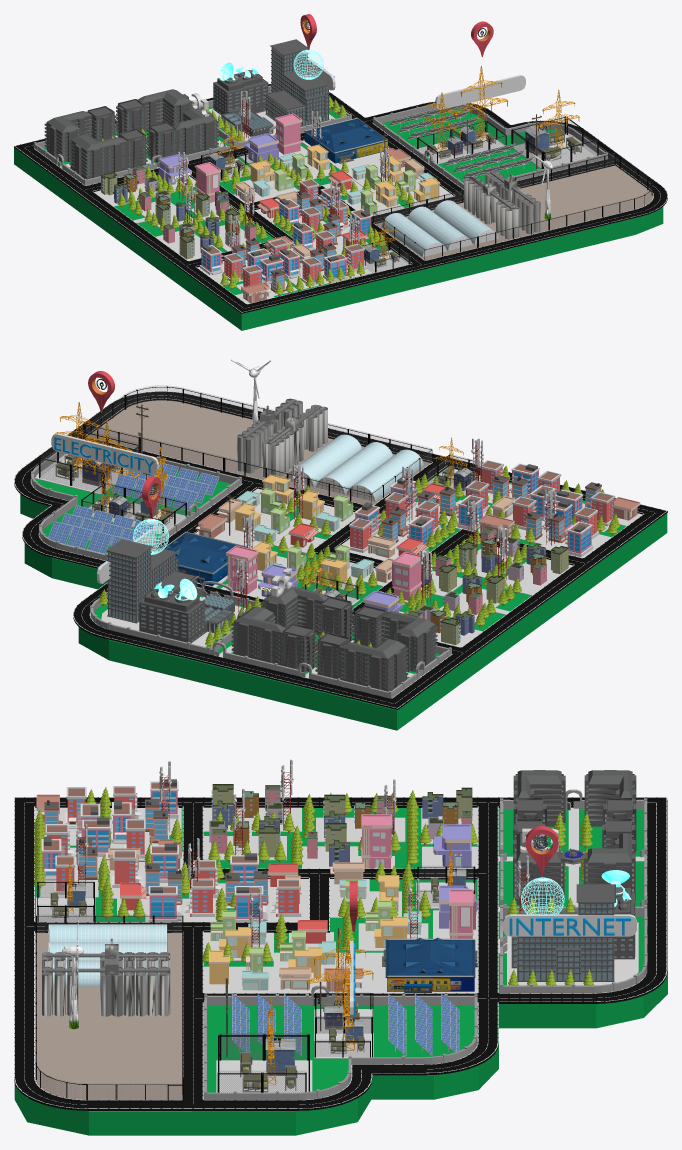
File: infrastructure-transformed.glb
3 views of the same model, one above another, from view 1: azimuth 30°, elevation 25°; view 2: azimuth 150°, elevation 25°; view 3: azimuth 270°, elevation 25° (orthographic). The views are drawn at different scales.
Visible parts, largest first — view 1: Plane.019, Root.047, Road90_2x2, pCube2_phong5_0.036, Cube.178, House.001, Lowpoly_Tree_07_Material_0.026, Apartment1_BaseMaterial_0.002, Cube.177, bakery.002, Object_4.005, Material2.001 (+15 smaller); view 2: Plane.019, Root.047, Road90_2x2, pCube2_phong5_0.036, House.001, Cube.178, Lowpoly_Tree_07_Material_0.026, Cube.177, Apartment1_BaseMaterial_0.002, Cylinder_Environment.1_0.001, bakery.002, Object_4.005 (+17 smaller); view 3: Plane.019, Road90_2x2, Cube.178, Root.047, House.001, pCube2_phong5_0.036, Lowpoly_Tree_07_Material_0.026, Cube.177, Apartment1_BaseMaterial_0.002, Material2.001, bakery.002, Cylinder_Environment.1_0.001 (+17 smaller).
Part boxes in pixels (box(x1,y1,x2,y2)): Plane.019: box(14, 107, 663, 330); Root.047: box(44, 39, 329, 179); Road90_2x2: box(14, 83, 667, 313); pCube2_phong5_0.036: box(201, 116, 652, 272); Cube.178: box(60, 58, 599, 303); House.001: box(200, 178, 371, 292); Lowpoly_Tree_07_Material_0.026: box(101, 95, 414, 295); Apartment1_BaseMaterial_0.002: box(101, 166, 256, 259); Cube.177: box(33, 84, 607, 189); bakery.002: box(158, 118, 440, 302); Object_4.005: box(381, 200, 498, 256); Material2.001: box(464, 171, 540, 239); Plane.019: box(20, 400, 667, 730); Root.047: box(105, 539, 437, 691); Road90_2x2: box(14, 391, 667, 709); pCube2_phong5_0.036: box(38, 385, 482, 603); House.001: box(348, 460, 615, 557); Cube.178: box(35, 433, 642, 678); Lowpoly_Tree_07_Material_0.026: box(98, 465, 619, 652); Cube.177: box(31, 437, 451, 698); Apartment1_BaseMaterial_0.002: box(407, 528, 568, 645); Cylinder_Environment.1_0.001: box(48, 463, 219, 553); bakery.002: box(196, 479, 640, 611); Object_4.005: box(285, 434, 423, 501); Plane.019: box(14, 799, 667, 1135); Road90_2x2: box(14, 797, 667, 1110); Cube.178: box(35, 807, 644, 1092); Root.047: box(511, 770, 636, 981); House.001: box(41, 779, 301, 921); pCube2_phong5_0.036: box(35, 866, 475, 1100); Lowpoly_Tree_07_Material_0.026: box(33, 787, 594, 985); Cube.177: box(204, 789, 647, 1100); Apartment1_BaseMaterial_0.002: box(209, 784, 472, 866); Material2.001: box(42, 938, 170, 1016); bakery.002: box(36, 808, 476, 991); Cylinder_Environment.1_0.001: box(231, 994, 459, 1055).
Size of the model in its own units: 115 by 33.08 by 102.
68 materials, 14 textured.
